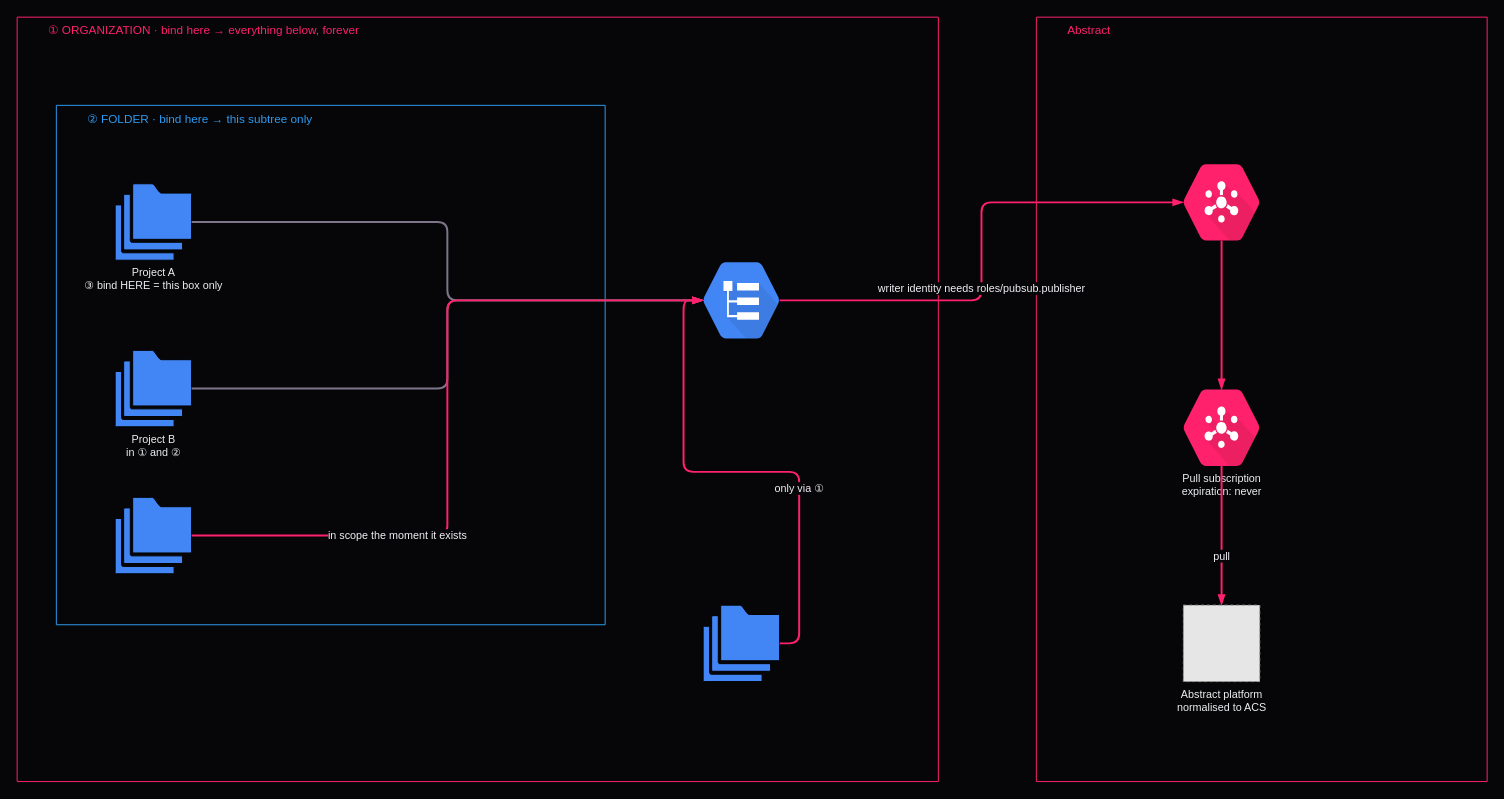
This 1504x799 diagram has some shape labels left out. Grey dashed boxes stand in for pictures. Each missing label, with the centre of its shape:
"Log Router sits ABOVE every project" goes at point 741,300.
"Project C OUTSIDE the folder — ② MISSES it" goes at point 741,643.
"Project Z created next year — still in ① and ②" goes at point 153,535.
"Pub/Sub topic dedicated logging project" goes at point 1221,202.
